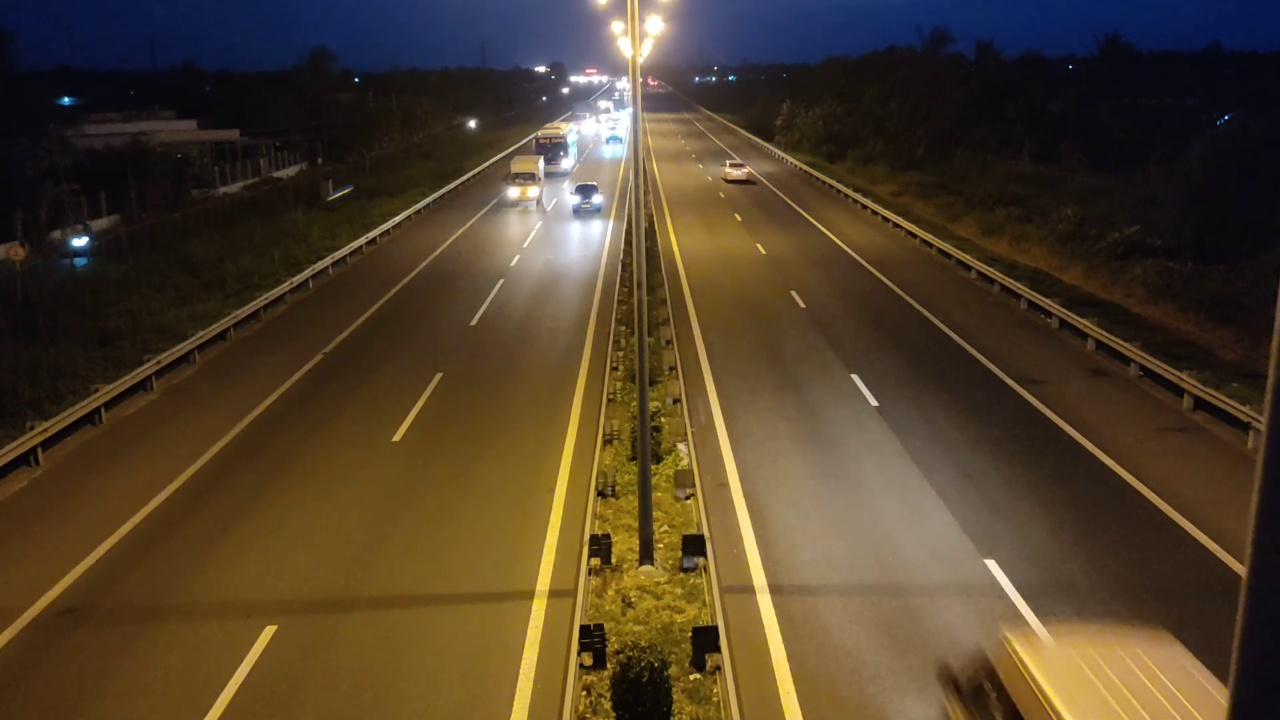car: (567, 181, 603, 216), (720, 161, 755, 183)
